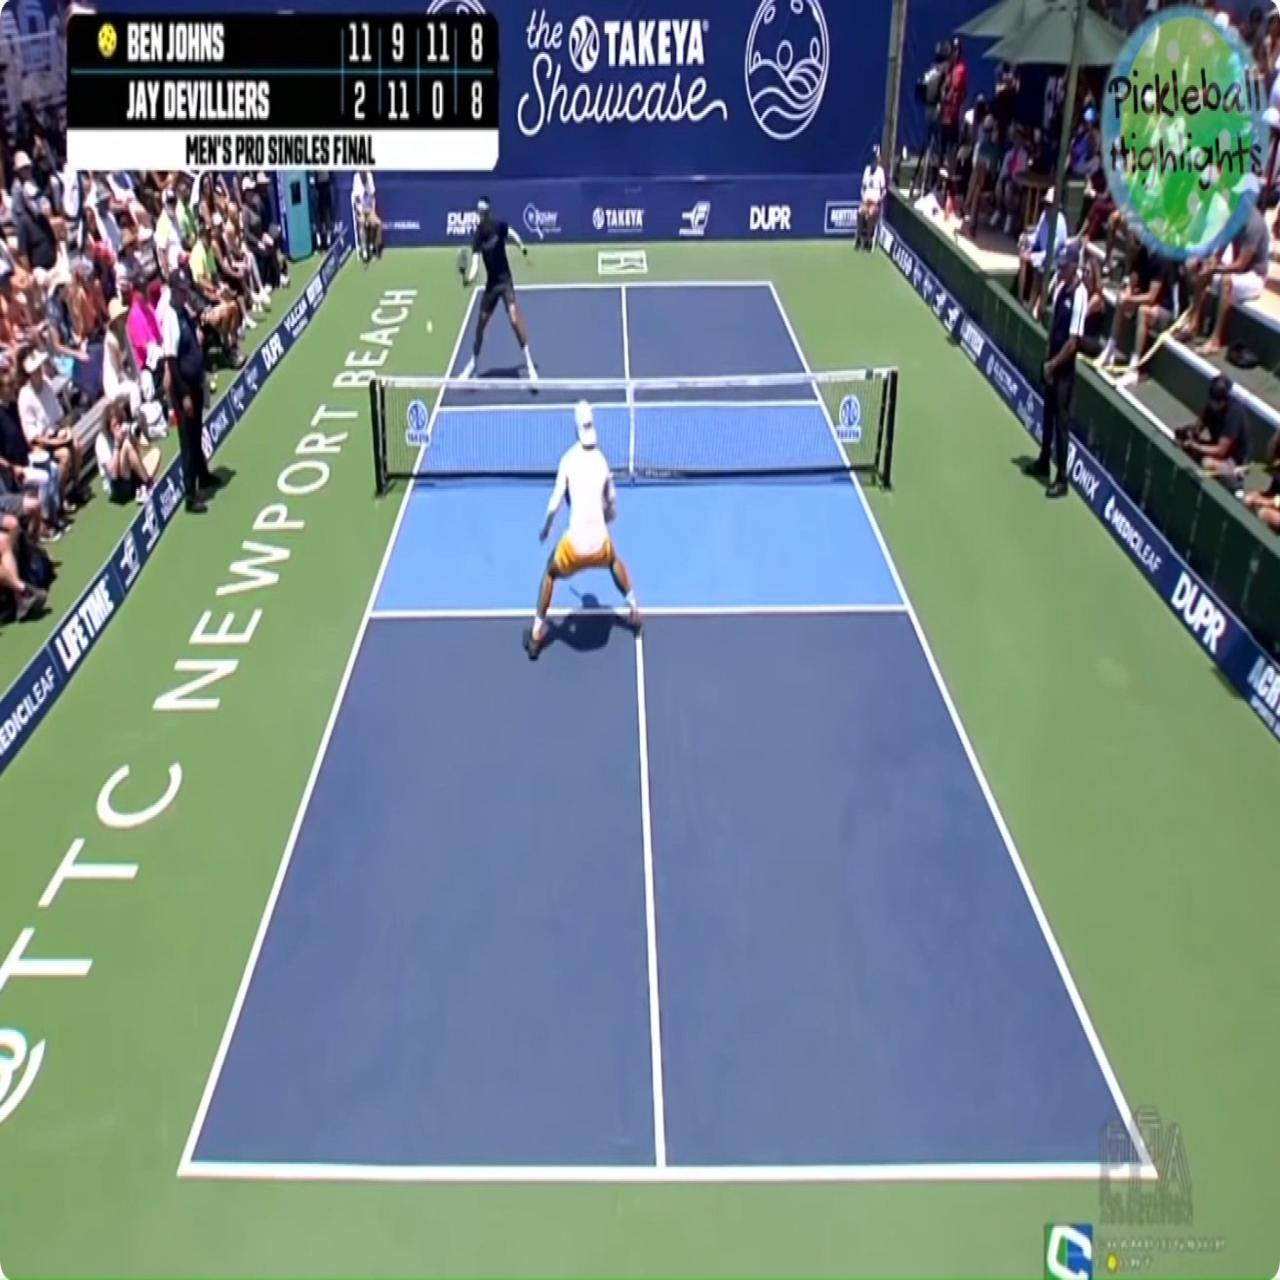pickleball: (425, 320, 433, 334)
